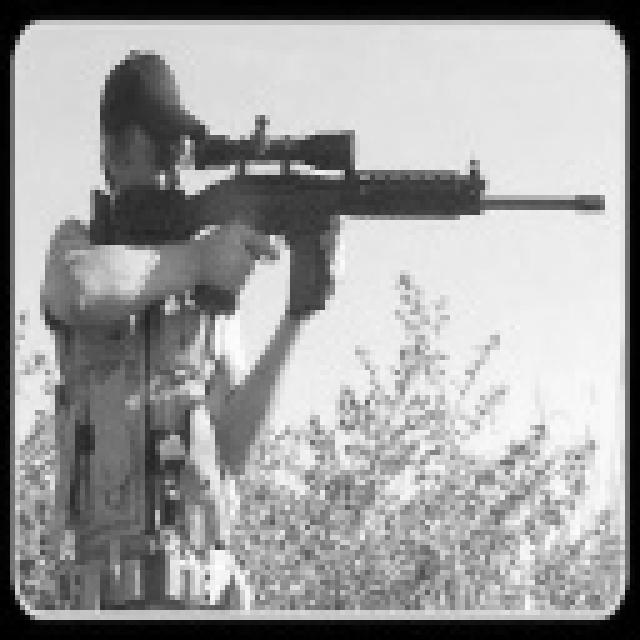Rifle: (77, 95, 619, 360)
